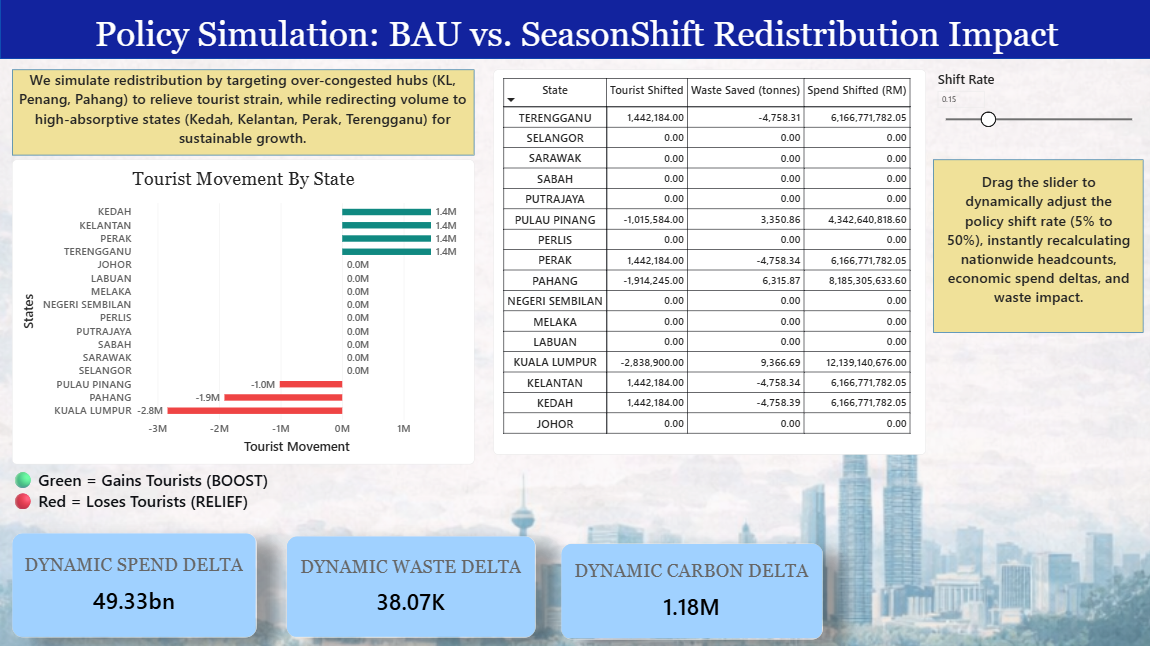

Layout of this report page (visuals, bound fields, positions):
{"tool":"powerbi","page":{"name":"Policy","canvas":[1920,1080],"ordinal":3},"visuals":[{"type":"pivotTable","fields":{"Rows":["Dim_Weights.state"],"Values":["Fact_Policy.Dynamic Arrivals Delta","Fact_Policy.Dynamic Waste Delta 2","Fact_Policy.Dynamic Spend Delta"]},"box":[823.1,116.9,720.5,641.8],"z":0},{"type":"slicer","fields":{"Values":["Shift Rate.Shift Rate"]},"box":[1555.6,116.9,350.7,169.4],"z":4000},{"type":"clusteredBarChart","title":"Tourist Movement By State","fields":{"Category":["Dim_Weights.state"],"Y":["Fact_Policy.Dynamic Arrivals Delta"]},"box":[19.1,267.2,770.7,508.2],"z":5000},{"type":"textbox","box":[19.1,782.6,544,131.2],"z":7000},{"type":"shape","box":[0,0,1920.7,100.2],"z":7001},{"type":"textbox","box":[124.1,23.9,1672.5,76.3],"z":7002},{"type":"shape","title":"hh","box":[1555.6,267.2,350.7,288.7],"z":7004},{"type":"shape","title":"hh","box":[19.1,116.9,770.7,143.2],"z":7005},{"type":"textbox","box":[31,116.9,749.2,150.3],"z":7006},{"type":"cardVisual","fields":{"Data":["Fact_Policy.Dynamic Spend Delta"]},"box":[19.1,889.9,408,174.2],"z":7007},{"type":"cardVisual","fields":{"Data":["Fact_Policy.Dynamic Waste Delta"]},"box":[477.2,894.7,415.1,169.4],"z":7008},{"type":"cardVisual","fields":{"Data":["Fact_Policy.Dynamic Carbon Delta"]},"box":[935.3,906.6,436.6,159.9],"z":7009},{"type":"textbox","box":[1574.7,286.3,312.6,269.6],"z":7010}]}

Visuals, with their boxes in screenshot pixels (x1, y1, x2, y2), scaled from the page's 1920x1080 canvas onto the 1150x646 screenshot:
pivotTable - Dim_Weights.state x Fact_Policy.Dynamic Arrivals Delta: {"x1": 493, "y1": 70, "x2": 925, "y2": 454}
slicer - Shift Rate.Shift Rate: {"x1": 932, "y1": 70, "x2": 1142, "y2": 171}
"Tourist Movement By State" clusteredBarChart: {"x1": 11, "y1": 160, "x2": 473, "y2": 464}
textbox: {"x1": 11, "y1": 468, "x2": 337, "y2": 547}
shape: {"x1": 0, "y1": 0, "x2": 1149, "y2": 60}
textbox: {"x1": 74, "y1": 14, "x2": 1076, "y2": 60}
"hh" shape: {"x1": 932, "y1": 160, "x2": 1142, "y2": 333}
"hh" shape: {"x1": 11, "y1": 70, "x2": 473, "y2": 156}
textbox: {"x1": 19, "y1": 70, "x2": 467, "y2": 160}
cardVisual - Fact_Policy.Dynamic Spend Delta: {"x1": 11, "y1": 532, "x2": 256, "y2": 636}
cardVisual - Fact_Policy.Dynamic Waste Delta: {"x1": 286, "y1": 535, "x2": 534, "y2": 636}
cardVisual - Fact_Policy.Dynamic Carbon Delta: {"x1": 560, "y1": 542, "x2": 822, "y2": 638}
textbox: {"x1": 943, "y1": 171, "x2": 1130, "y2": 333}
